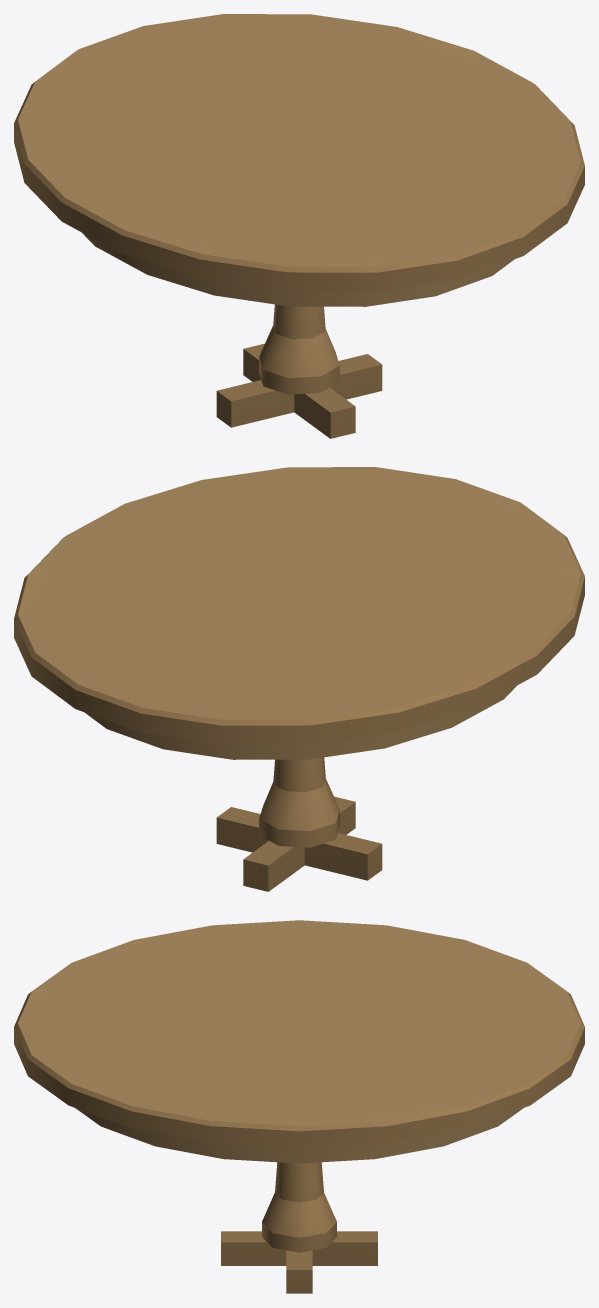
Rendered from table.round.pine.glb.
The picture shows the model from 3 angles, top to bottom: view 1: azimuth 30°, elevation 25°; view 2: azimuth 150°, elevation 25°; view 3: azimuth 270°, elevation 25°; orthographic projection. The views are drawn at different scales.
Parts seen in each view (by area): view 1: table_round_pine; view 2: table_round_pine; view 3: table_round_pine.
Boxes of the visible parts, x1,y1,x2,y2 form: table_round_pine: (14,14,584,438); table_round_pine: (14,467,584,891); table_round_pine: (14,920,584,1293).
Size of what is drawn, in the model's own units: 1.51 by 0.8 by 1.75.
